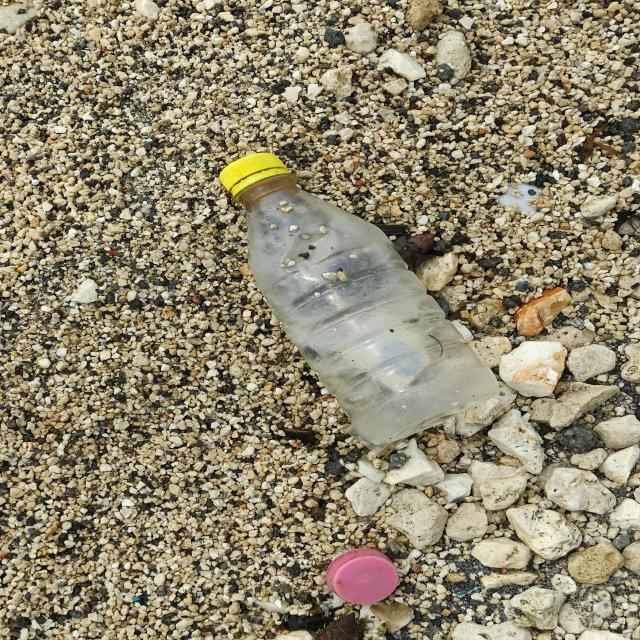plastic_waste: (216, 151, 504, 447), (324, 544, 401, 606)
